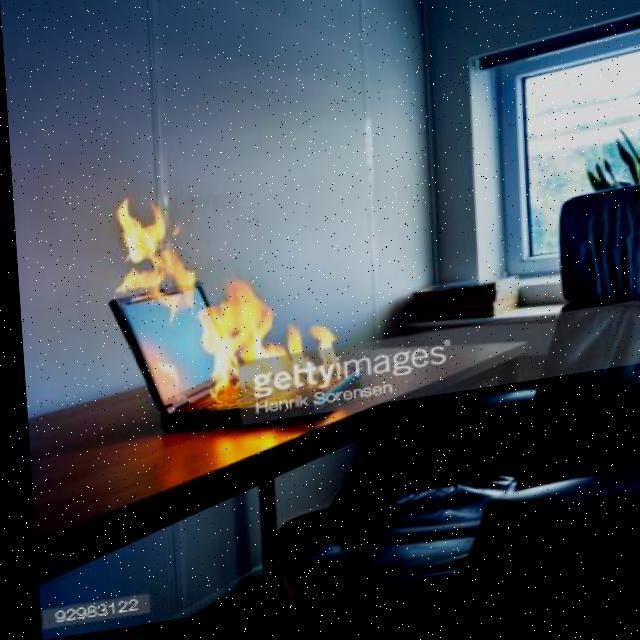Fire: (110, 190, 346, 433)
